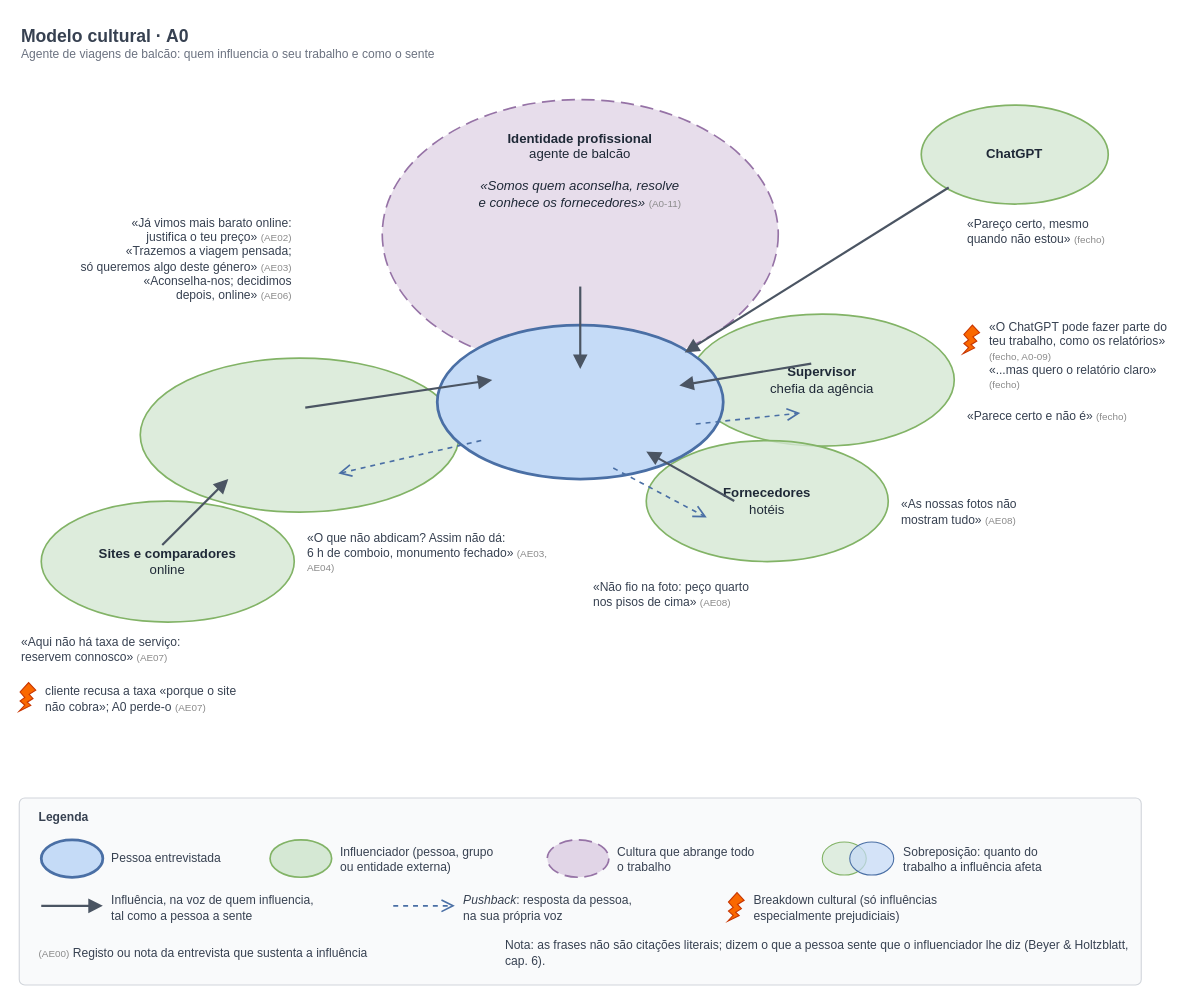
Image size: 1194x1004. Some labels were removed from this diagram. The centre of each missing label's shape, as x and y in pixels:
"A0 agente de balcão" belongs at [579,401].
"Clientes presenciais e por correio" belongs at [299,434].
